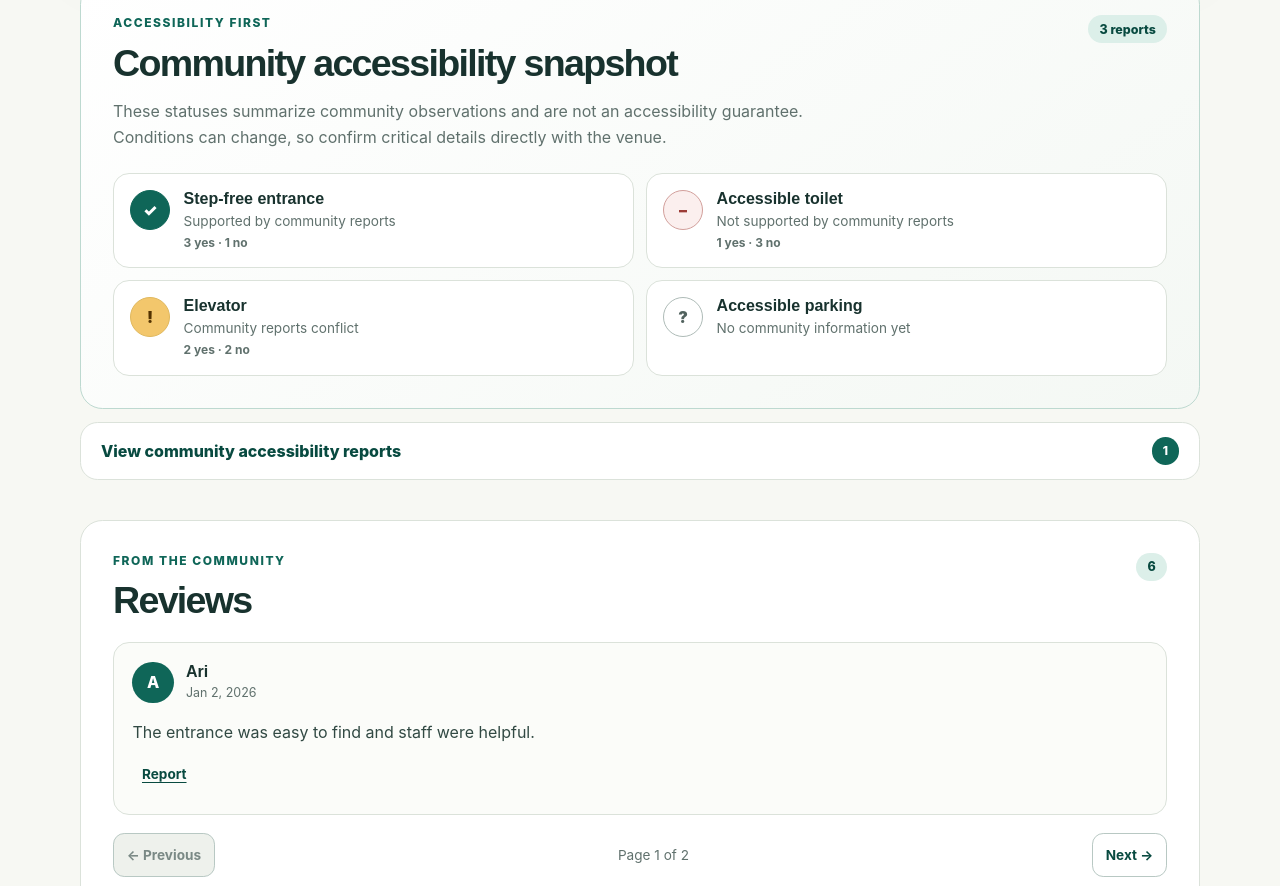
Test: place details › presents numeric and select observations as evidence without Boolean status labels
(page scrolled)
Click the text "View community accessibility reports" at (251, 451), box 101,441 -> 401,461
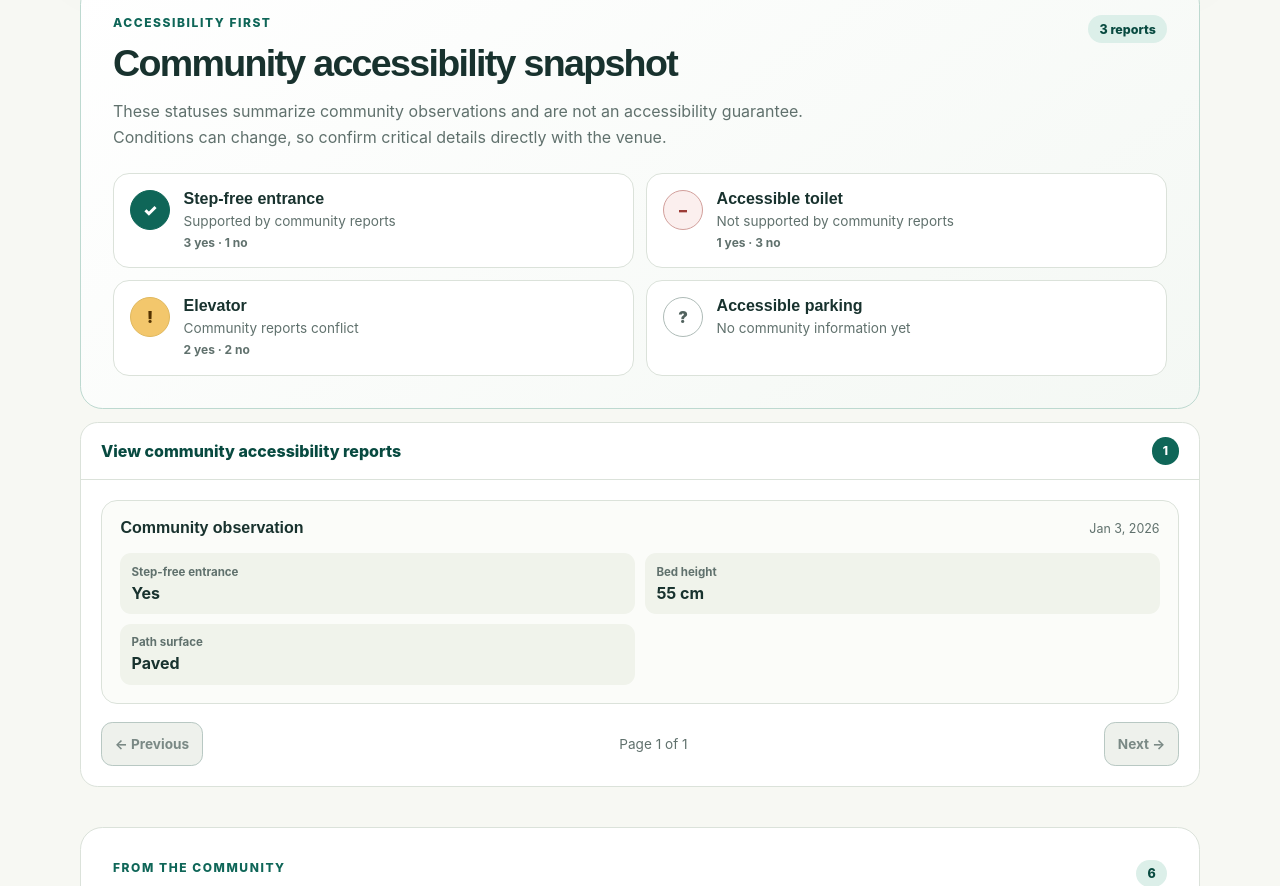
Now the text "55 cm" is shown, box 656,583 -> 704,603
Now the text "Paved" is shown, box 132,653 -> 180,673
Now the text "Bed height" is shown once, box 656,565 -> 717,579
